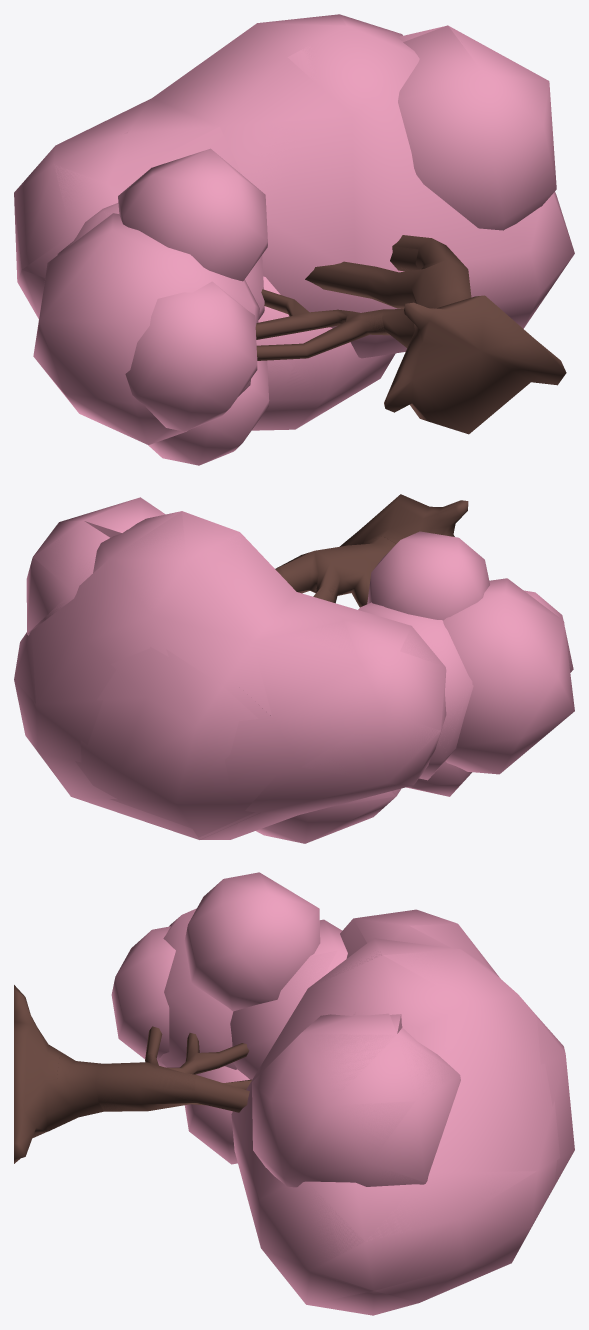
Rendered from NewTree.fbx.
3 renders of one model, top to bottom at view 1: azimuth 30°, elevation 25°; view 2: azimuth 150°, elevation 25°; view 3: azimuth 270°, elevation 25°, orthographic. The views are drawn at different scales.
Visible parts, largest first — view 1: tree-bonsai, tree_03, tree_04, tree_05, tree_02; view 2: tree-bonsai, tree_01, tree_02, tree_03, tree_05; view 3: tree-bonsai, tree_03, tree_02, tree_01, tree_05.
Part boxes in pixels (x1,y1,x2,y2): tree-bonsai: [14, 14, 574, 458]; tree_03: [22, 26, 574, 403]; tree_04: [126, 246, 418, 465]; tree_05: [339, 260, 470, 333]; tree_02: [14, 16, 346, 280]; tree-bonsai: [14, 494, 574, 843]; tree_01: [75, 646, 277, 839]; tree_02: [14, 511, 471, 839]; tree_03: [60, 498, 512, 794]; tree_05: [275, 546, 361, 606]; tree-bonsai: [14, 872, 559, 1315]; tree_03: [159, 872, 424, 1304]; tree_02: [366, 923, 536, 1302]; tree_01: [529, 1015, 574, 1229]; tree_05: [96, 1054, 195, 1111].
Bounding box in the file's own units: 31729 × 19241 × 28792.
